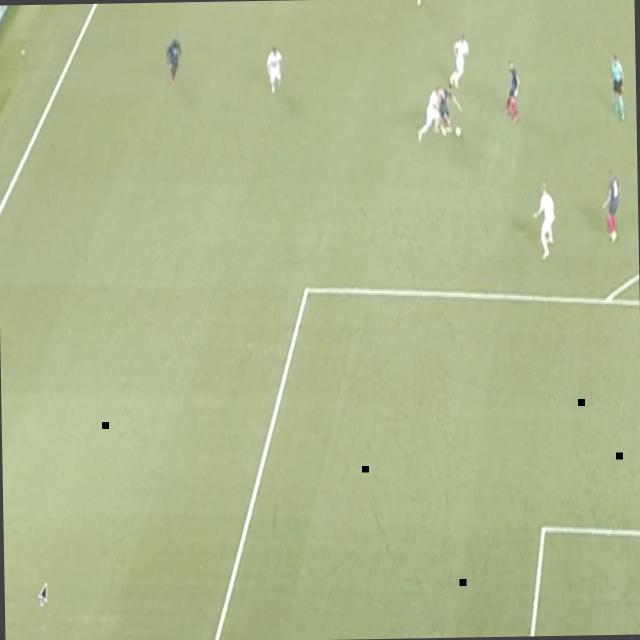ball: (454, 125, 464, 139)
player-white: (532, 178, 558, 266), (599, 164, 623, 248), (414, 83, 446, 141), (606, 51, 628, 128), (446, 30, 470, 100), (504, 55, 523, 127), (264, 42, 286, 100), (164, 34, 185, 90), (439, 83, 461, 135), (413, 0, 430, 8)
